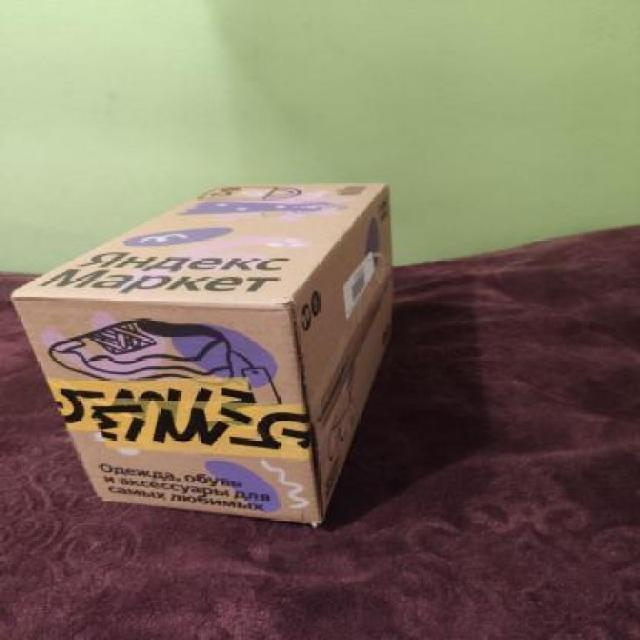box: (8, 174, 405, 530)
